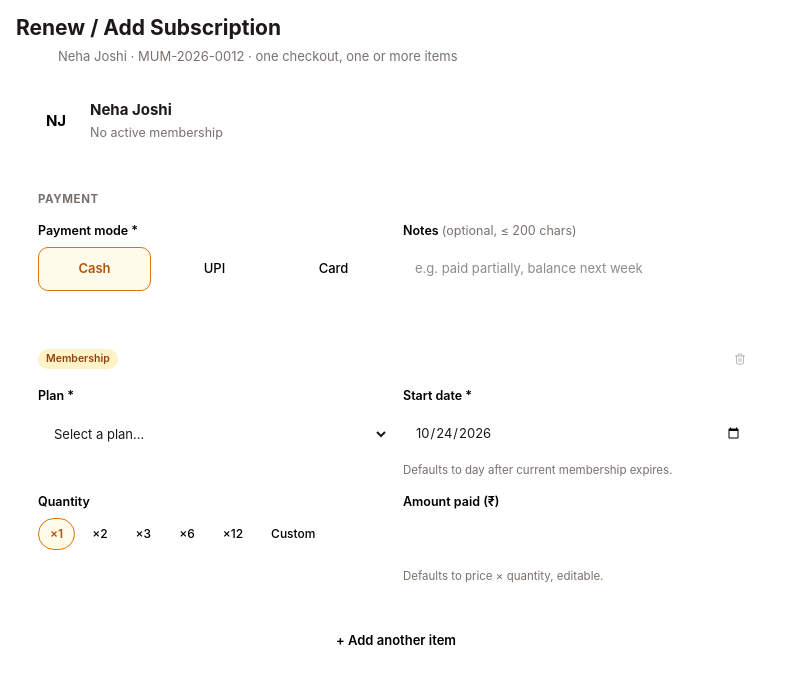
RenewSubscriptionPage — an item › an indefinite add-on has no quantity and says it never expires
Step 1. Select "Monthly · 30 days · ₹1,500" in the dropdown labelled "Plan *" → (214,434), box left=38, top=412, right=389, bottom=456
(page scrolled)
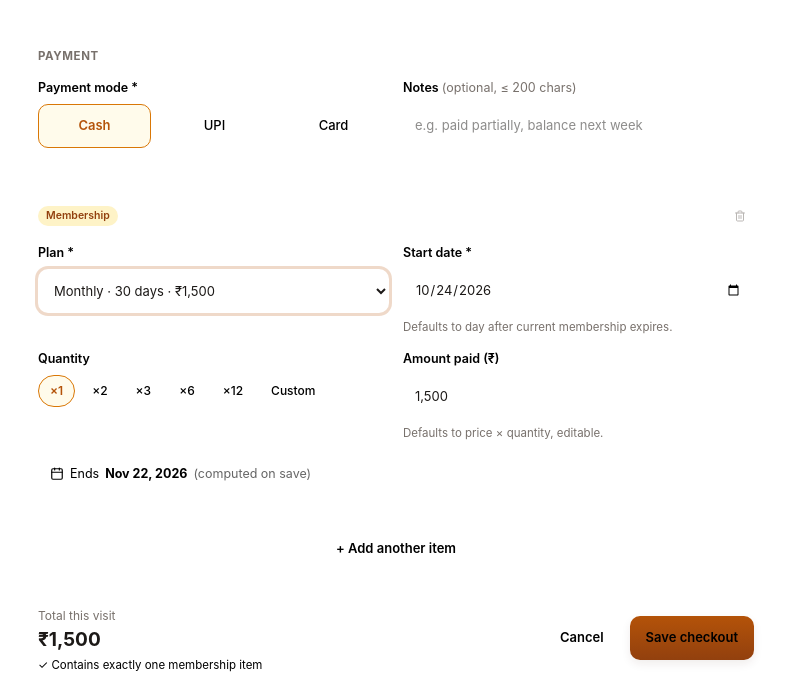
Step 2. Click the button "+ Add another item" → (396,548), box left=16, top=526, right=776, bottom=570
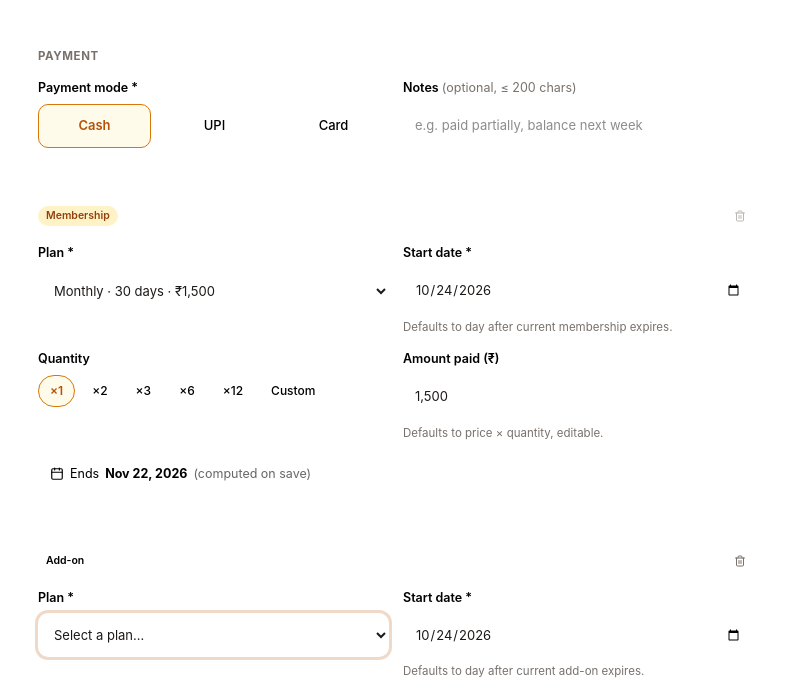
Step 3. Select "Joining Fee · Never expires · ₹300" in the 2nd dropdown labelled "Plan *" → (214,635), box left=38, top=613, right=389, bottom=657
(page scrolled)
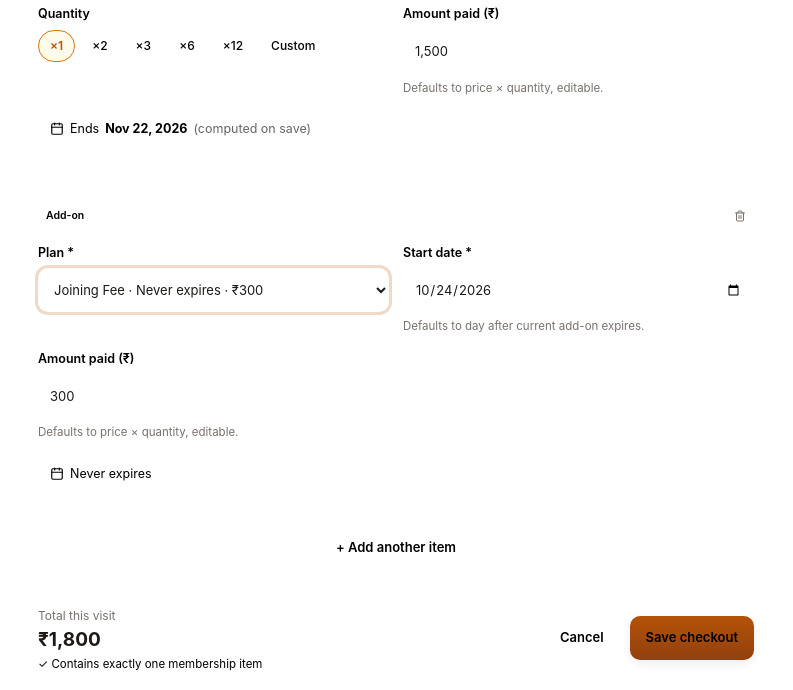
Result: the text "Never expires" is shown at left=50, top=466, right=152, bottom=481
